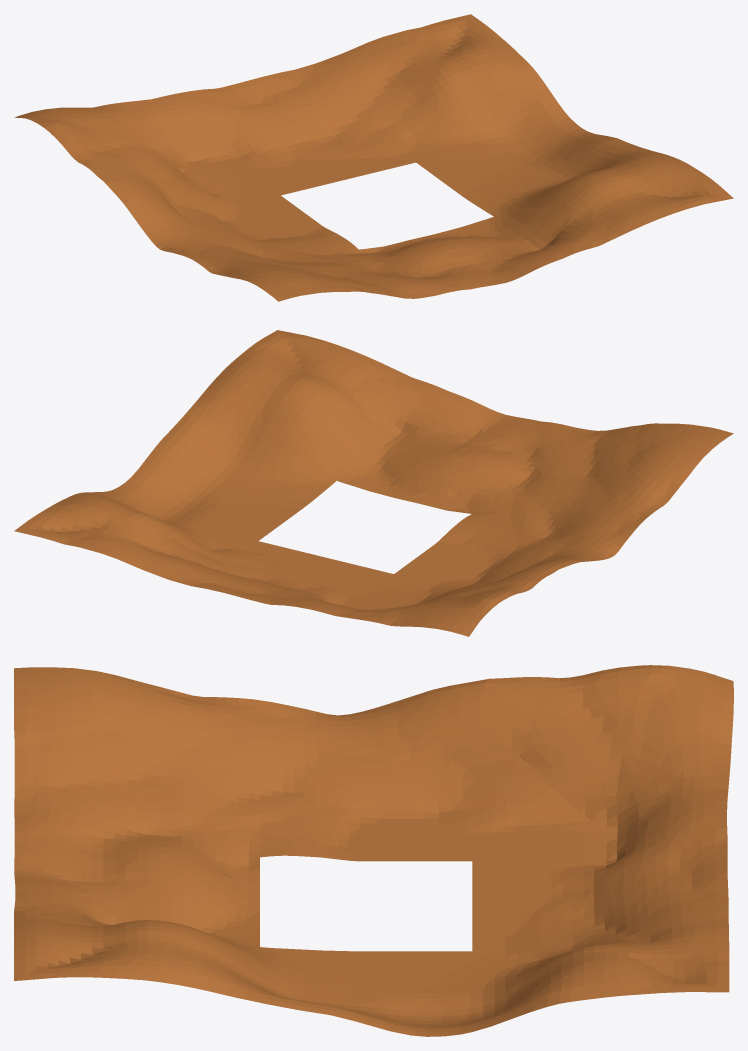
File: Background.fbx
3 views of the same model, one above another, from view 1: azimuth 30°, elevation 25°; view 2: azimuth 150°, elevation 25°; view 3: azimuth 270°, elevation 25° (orthographic). The views are drawn at different scales.
Parts seen in each view (by area): view 1: Background; view 2: Background; view 3: Background.
Boxes of the visible parts, x1,y1,x2,y2 form: Background: (14,14,733,301); Background: (14,330,733,636); Background: (14,665,733,1036).
Size of the model in its own units: 2500 by 343 by 2517.
